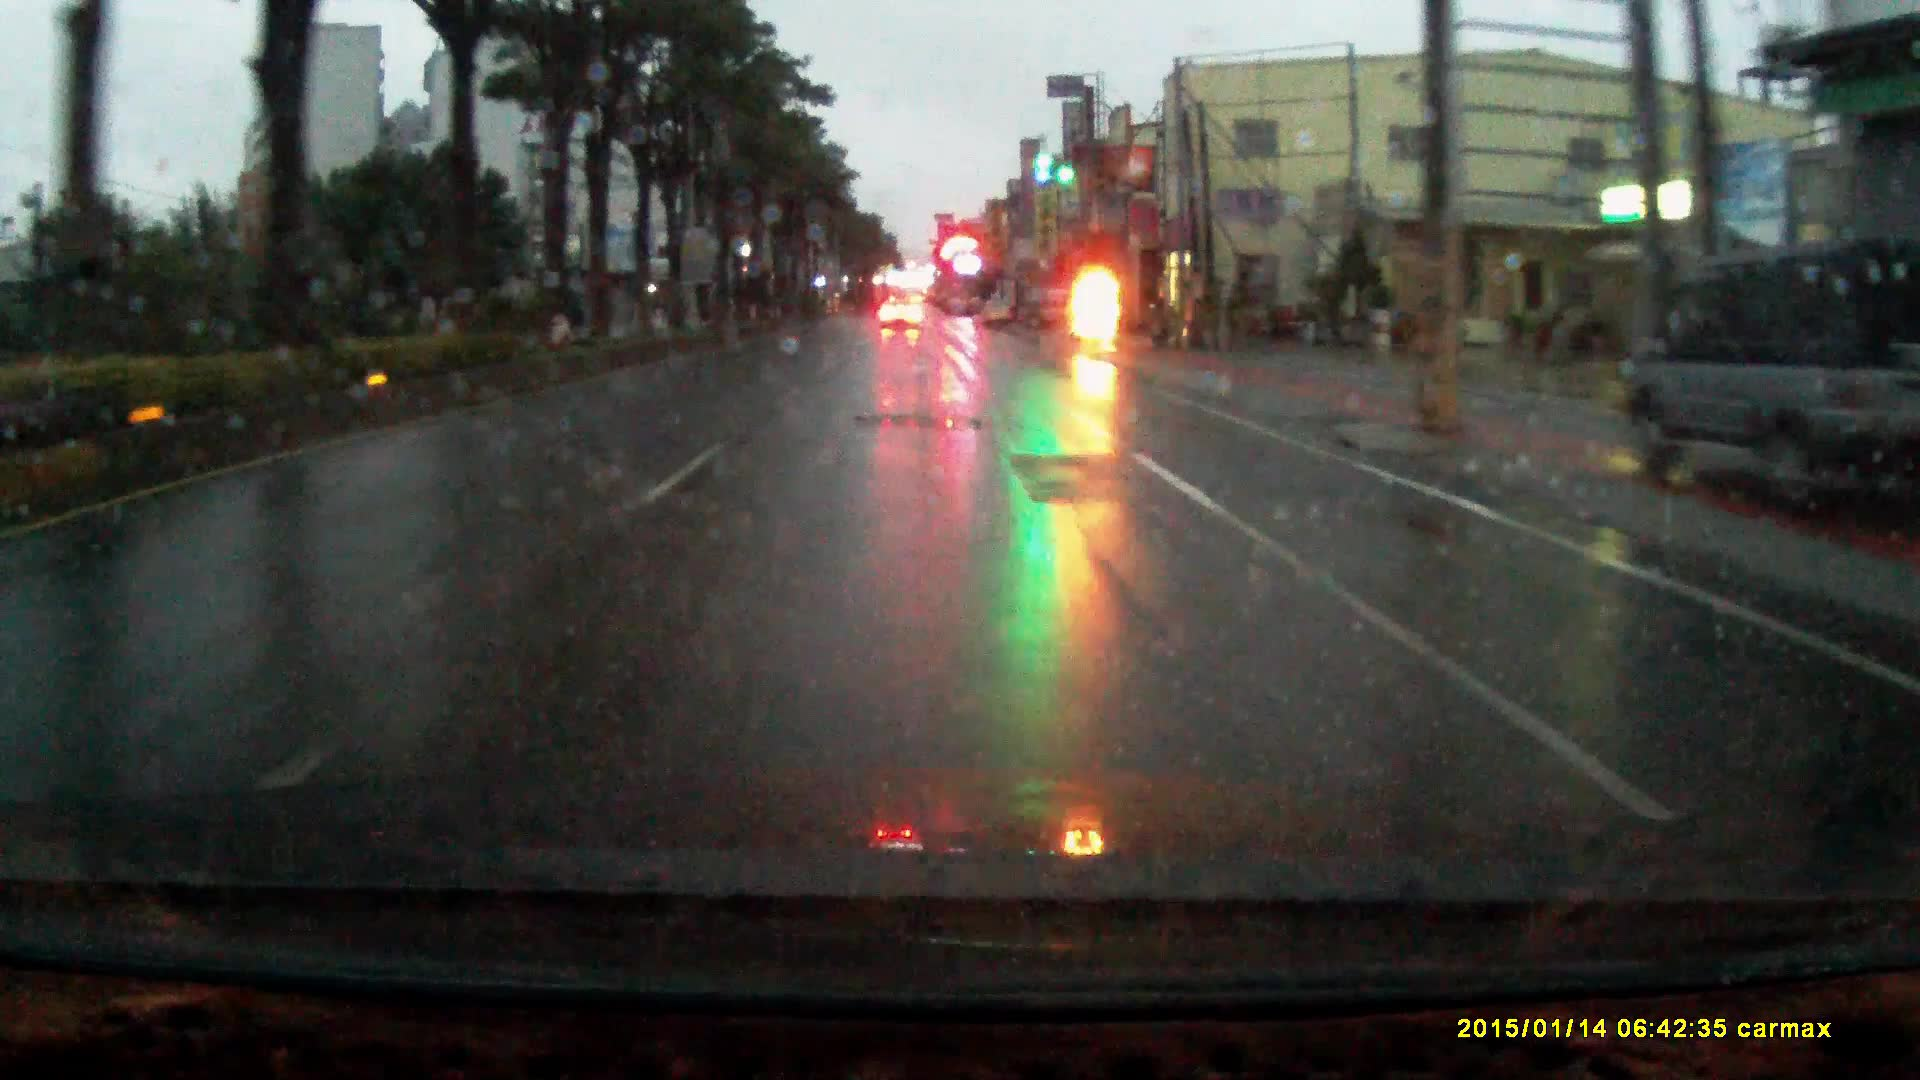vehicle: (1625, 233, 1920, 514), (1017, 282, 1087, 326), (880, 291, 926, 328)
